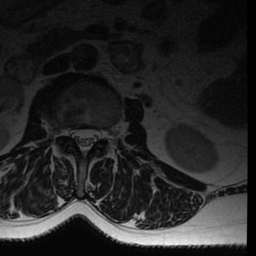CCS_normal: (80, 117, 90, 164)
LFS_normal: (100, 117, 110, 149)
LLS_normal: (90, 117, 101, 150)
RFS_normal: (58, 116, 69, 145)
RLS_normal: (69, 117, 80, 149)
